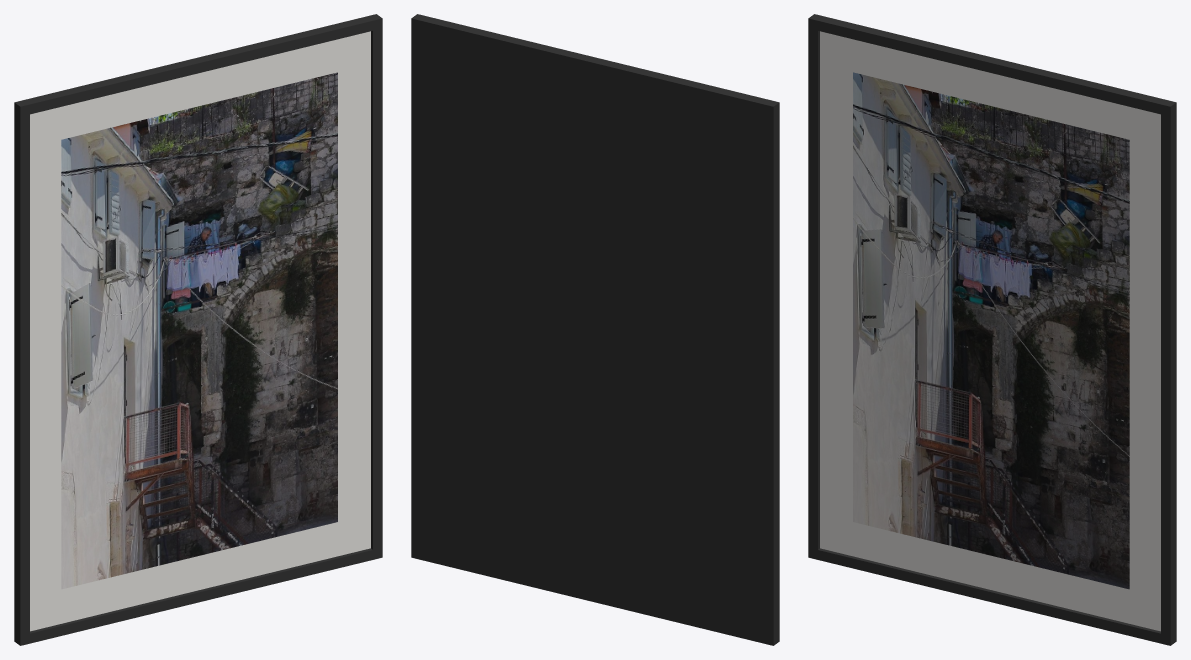
File: tvatten-90.gltf
3 views of the same model, side by side, from view 1: azimuth 30°, elevation 25°; view 2: azimuth 150°, elevation 25°; view 3: azimuth 330°, elevation 25° (orthographic).
Visible parts, largest first — view 1: tavla; view 2: tavla; view 3: tavla.
Part boxes in pixels (box(x1,y1,x2,y2)): tavla: box(14, 14, 382, 645); tavla: box(411, 14, 779, 645); tavla: box(808, 14, 1176, 645).
Size of the model in its own units: 0.7586 by 1.08 by 0.022.
3 materials, 1 textured.
